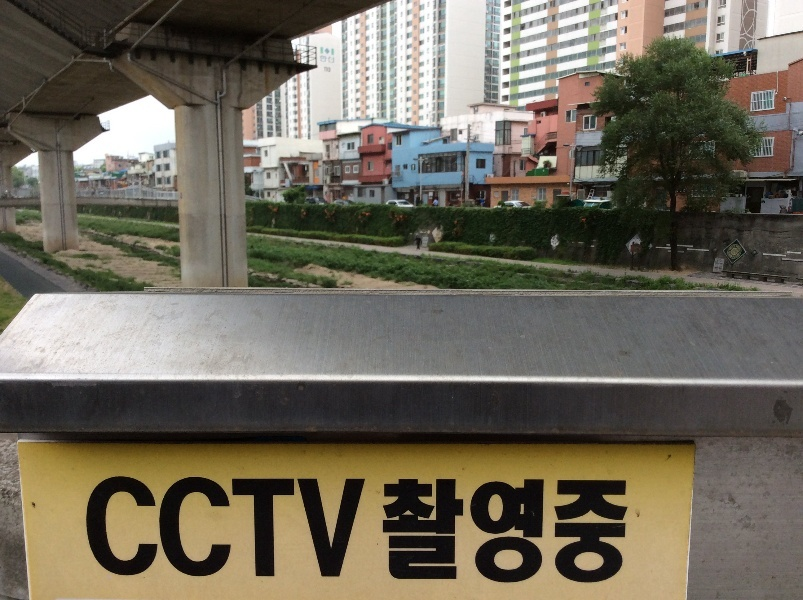text: (353, 470, 369, 591), (81, 470, 96, 591), (97, 470, 112, 591), (113, 470, 128, 591), (129, 470, 144, 591), (145, 470, 160, 591), (161, 470, 176, 591), (177, 470, 192, 591), (193, 470, 208, 591), (209, 470, 224, 591), (225, 470, 240, 591), (241, 470, 256, 591), (257, 470, 272, 591), (273, 470, 288, 591), (289, 470, 304, 591), (305, 470, 320, 591), (321, 470, 336, 591), (337, 470, 352, 591), (385, 477, 400, 588), (401, 477, 416, 588), (417, 477, 432, 588), (433, 477, 448, 588), (449, 477, 464, 588), (465, 477, 480, 588), (481, 477, 496, 588), (497, 477, 512, 588), (513, 477, 528, 588), (529, 477, 544, 588), (545, 477, 560, 588), (561, 477, 576, 588), (577, 477, 592, 588), (593, 477, 608, 588), (609, 477, 624, 588), (625, 477, 632, 588), (379, 477, 384, 588), (321, 55, 335, 64), (323, 67, 336, 73), (632, 245, 640, 252), (412, 164, 416, 172), (762, 201, 768, 203), (319, 55, 320, 64)
